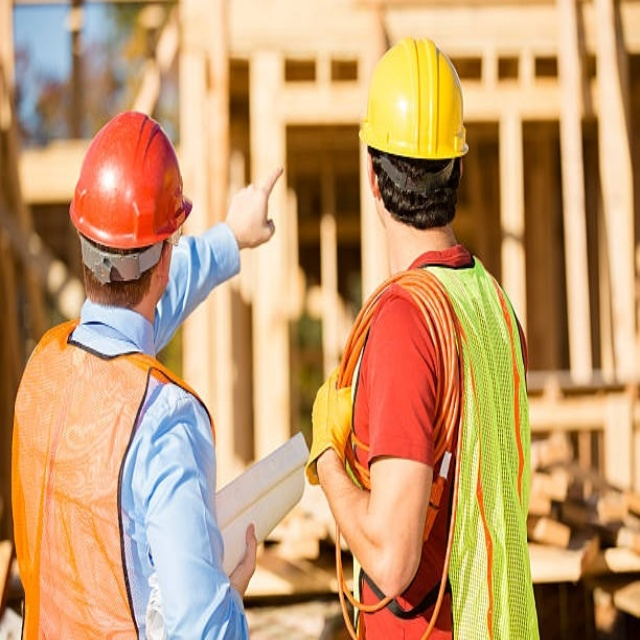Guantes: (305, 364, 350, 491)
Sin_guantes: (221, 162, 288, 245), (229, 521, 261, 595)
